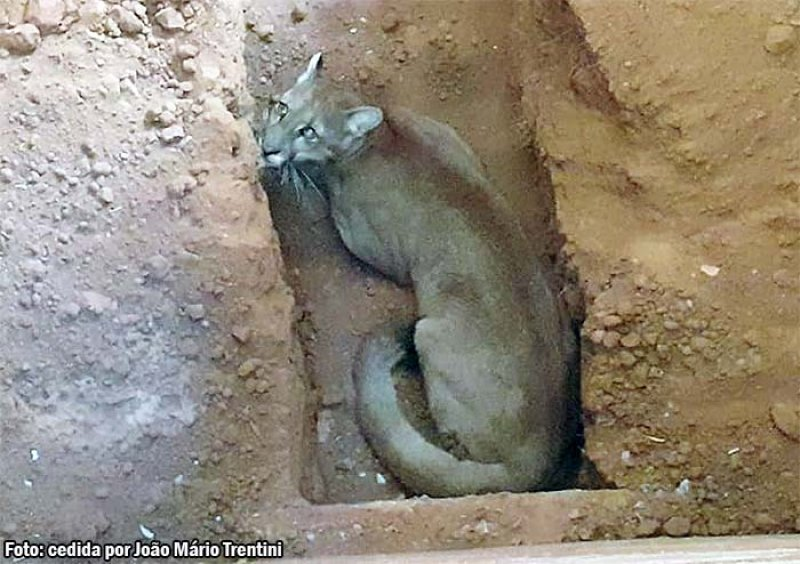OncaParda: (252, 47, 587, 499)
